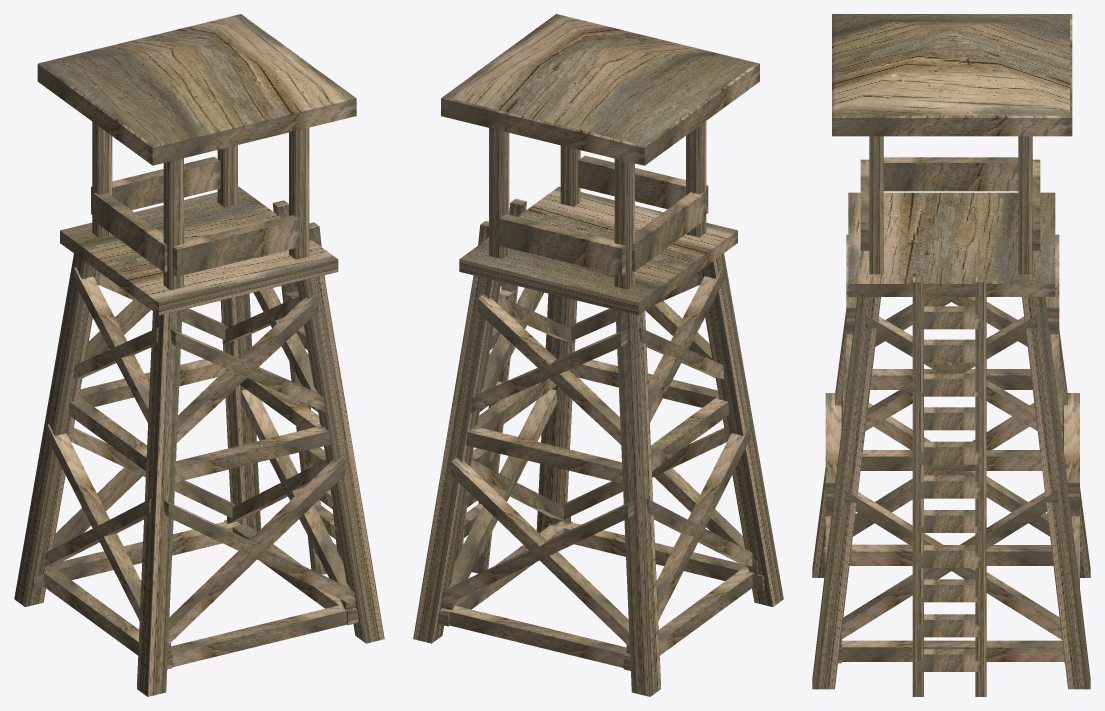
Rendered from Watch Tower.dae.
3 renders of one model, left to right at view 1: azimuth 30°, elevation 25°; view 2: azimuth 150°, elevation 25°; view 3: azimuth 270°, elevation 25°, orthographic. The views are drawn at different scales.
Visible parts, largest first — view 1: Wood; view 2: Wood; view 3: Wood.
Part boxes in pixels (left/top/right/bottom): Wood: left=14, top=14, right=384, bottom=696; Wood: left=413, top=14, right=783, bottom=696; Wood: left=812, top=14, right=1090, bottom=696.
Size of the model in its own units: 9.53 by 8.51 by 20.12.
Materials: 1 (1 with a texture image).
